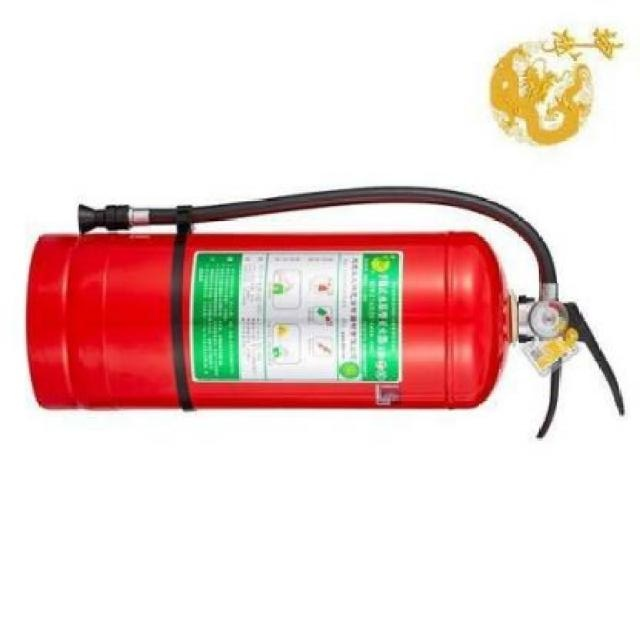fire extinguisher: (26, 186, 626, 440)
